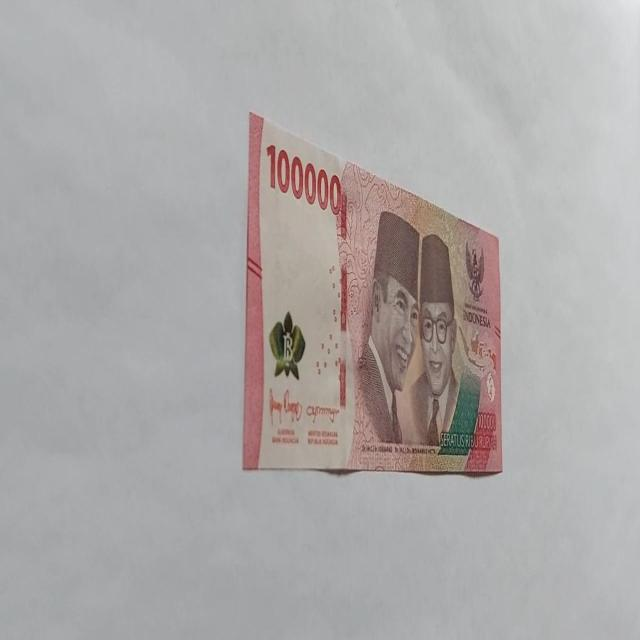Kertas: (242, 110, 504, 477), (265, 141, 342, 217)
